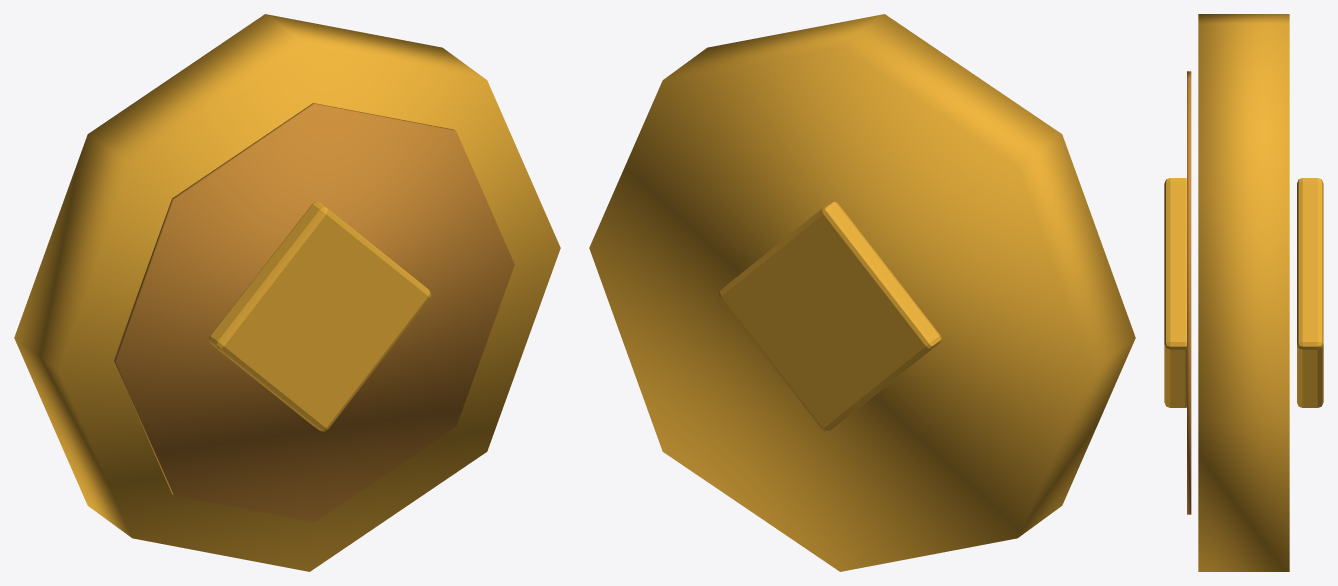
Rendered from coin.glb.
3 renders of one model, left to right at view 1: azimuth 30°, elevation 25°; view 2: azimuth 150°, elevation 25°; view 3: azimuth 270°, elevation 25°, orthographic. The views are drawn at different scales.
Visible parts, largest first — view 1: coin; view 2: coin; view 3: coin.
Part boxes in pixels (x1,y1,x2,y2): coin: (14, 14, 560, 571); coin: (589, 14, 1135, 571); coin: (1164, 14, 1323, 571).
Size of the model in its own units: 0.78 by 0.78 by 0.209.
